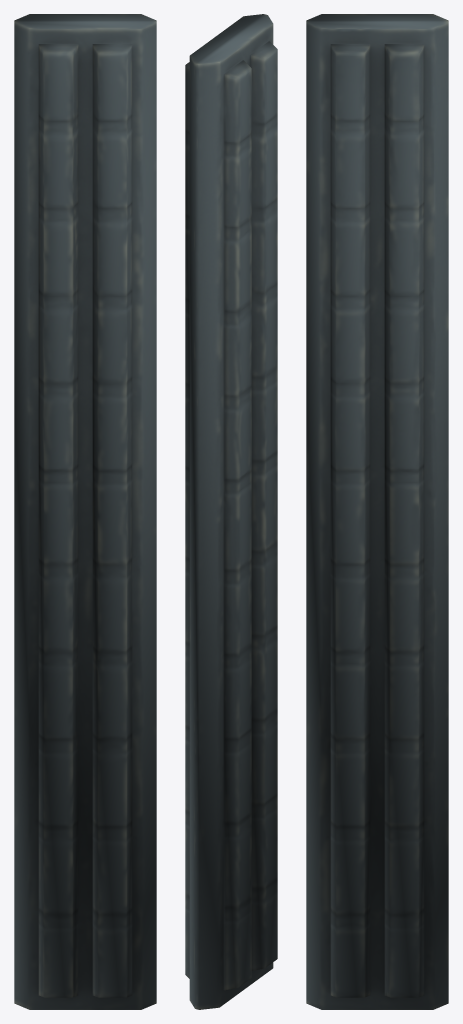
Rendered from ProjectRG_Environment_RuinsWall_Var1.fbx.
The picture shows the model from 3 angles, left to right: view 1: azimuth 90°, elevation 25°; view 2: azimuth 150°, elevation 25°; view 3: azimuth 270°, elevation 25°; orthographic projection. The views are drawn at different scales.
Visible parts, largest first — view 1: ProjectRG_Environment_RuinsWall_Var1; view 2: ProjectRG_Environment_RuinsWall_Var1; view 3: ProjectRG_Environment_RuinsWall_Var1.
Part boxes in pixels (x1,y1,x2,y2): ProjectRG_Environment_RuinsWall_Var1: (14, 14, 156, 1009); ProjectRG_Environment_RuinsWall_Var1: (185, 14, 277, 1009); ProjectRG_Environment_RuinsWall_Var1: (306, 14, 448, 1009).
Size of the model in its own units: 110 by 1860 by 244.
